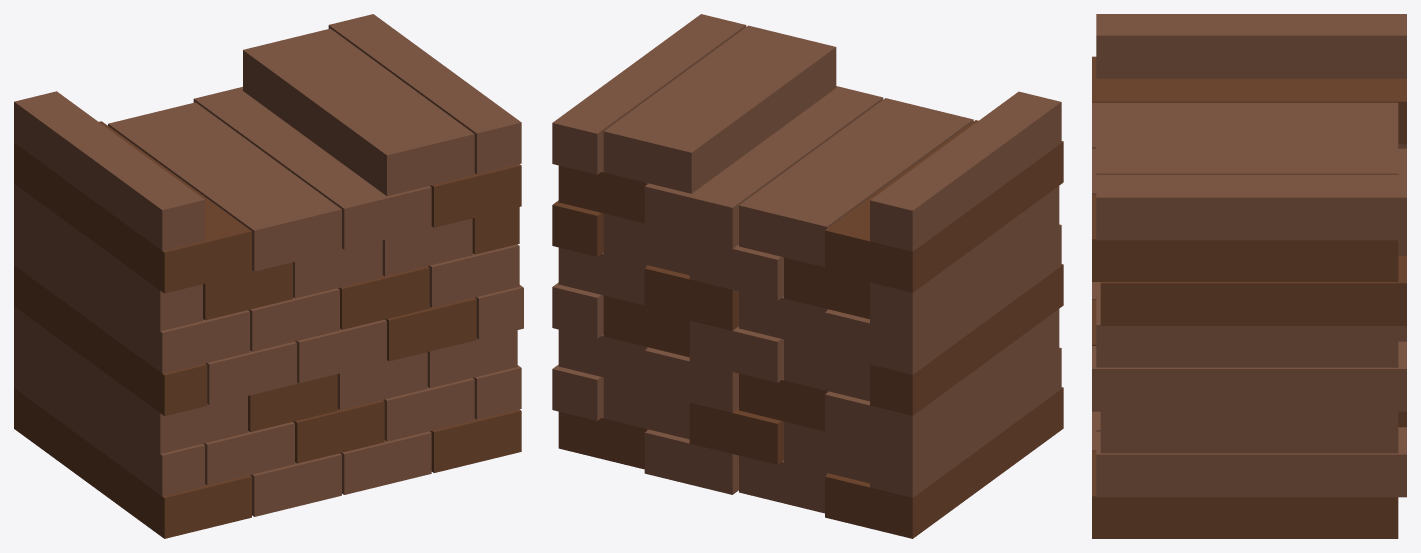
File: CMU3DInheritedStructureDecorFloorBrickStackCloud.glb
3 renders of one model, left to right at view 1: azimuth 30°, elevation 25°; view 2: azimuth 150°, elevation 25°; view 3: azimuth 270°, elevation 25°, orthographic. The views are drawn at different scales.
Parts seen in each view (by area): view 1: bonded clay brick 7 3, bonded clay brick 6 1, bonded clay brick 7 0, bonded clay brick 6 0, bonded clay brick 6 2, bonded clay brick 0 0, bonded clay brick 4 0, bonded clay brick 2 0, bonded clay brick 7 4, bonded clay brick 3 0, bonded clay brick 1 0, bonded clay brick 5 0 (+22 smaller); view 2: bonded clay brick 7 3, bonded clay brick 6 1, bonded clay brick 7 0, bonded clay brick 6 0, bonded clay brick 6 2, bonded clay brick 0 0, bonded clay brick 4 0, bonded clay brick 2 0, bonded clay brick 7 4, bonded clay brick 3 0, bonded clay brick 1 0, bonded clay brick 5 0 (+22 smaller); view 3: bonded clay brick 7 4, bonded clay brick 7 0, bonded clay brick 3 4, bonded clay brick 1 4, bonded clay brick 7 3, bonded clay brick 5 4, bonded clay brick 0 3, bonded clay brick 6 3, bonded clay brick 4 3, bonded clay brick 2 3, bonded clay brick 6 1, bonded clay brick 6 0 (+1 smaller).
Boxes of the visible parts, x1=… form: bonded clay brick 7 3: x1=243, y1=28, x2=474, y2=196; bonded clay brick 6 1: x1=108, y1=102, x2=341, y2=271; bonded clay brick 7 0: x1=14, y1=91, x2=204, y2=250; bonded clay brick 6 0: x1=14, y1=121, x2=251, y2=293; bonded clay brick 6 2: x1=193, y1=87, x2=431, y2=249; bonded clay brick 0 0: x1=14, y1=388, x2=251, y2=538; bonded clay brick 4 0: x1=14, y1=224, x2=249, y2=373; bonded clay brick 2 0: x1=14, y1=306, x2=247, y2=453; bonded clay brick 7 4: x1=328, y1=14, x2=521, y2=174; bonded clay brick 3 0: x1=14, y1=265, x2=207, y2=416; bonded clay brick 1 0: x1=14, y1=347, x2=204, y2=496; bonded clay brick 5 0: x1=14, y1=183, x2=202, y2=331; bonded clay brick 7 3: x1=603, y1=25, x2=836, y2=193; bonded clay brick 6 1: x1=739, y1=98, x2=973, y2=267; bonded clay brick 7 0: x1=870, y1=91, x2=1061, y2=251; bonded clay brick 6 0: x1=825, y1=120, x2=1063, y2=292; bonded clay brick 6 2: x1=644, y1=86, x2=883, y2=248; bonded clay brick 0 0: x1=825, y1=387, x2=1063, y2=538; bonded clay brick 4 0: x1=825, y1=224, x2=1061, y2=374; bonded clay brick 2 0: x1=825, y1=309, x2=1059, y2=456; bonded clay brick 7 4: x1=552, y1=14, x2=746, y2=174; bonded clay brick 3 0: x1=870, y1=264, x2=1063, y2=415; bonded clay brick 1 0: x1=870, y1=347, x2=1061, y2=497; bonded clay brick 5 0: x1=870, y1=186, x2=1059, y2=333; bonded clay brick 7 4: x1=1096, y1=174, x2=1406, y2=240; bonded clay brick 7 0: x1=1096, y1=14, x2=1406, y2=78; bonded clay brick 3 4: x1=1092, y1=346, x2=1406, y2=411; bonded clay brick 1 4: x1=1096, y1=431, x2=1406, y2=497; bonded clay brick 7 3: x1=1096, y1=128, x2=1398, y2=174; bonded clay brick 5 4: x1=1100, y1=260, x2=1406, y2=325; bonded clay brick 0 3: x1=1092, y1=451, x2=1398, y2=538; bonded clay brick 6 3: x1=1092, y1=194, x2=1398, y2=281; bonded clay brick 4 3: x1=1096, y1=282, x2=1398, y2=367; bonded clay brick 2 3: x1=1100, y1=411, x2=1398, y2=453; bonded clay brick 6 1: x1=1092, y1=102, x2=1398, y2=148; bonded clay brick 6 0: x1=1092, y1=56, x2=1406, y2=144.
Size of the model in its own units: 0.8 by 0.696 by 0.58.
